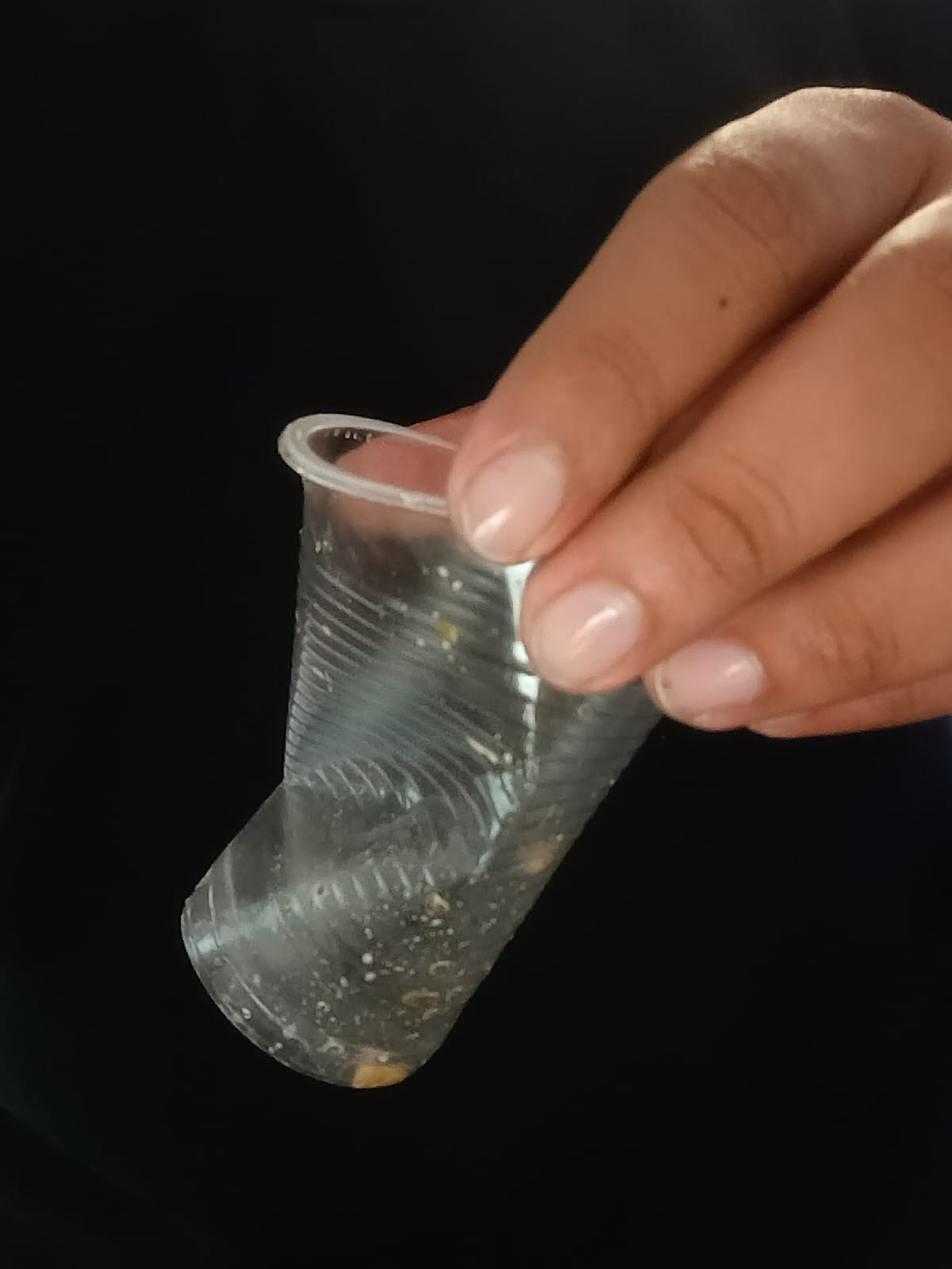Plastico: (179, 414, 662, 1088)
